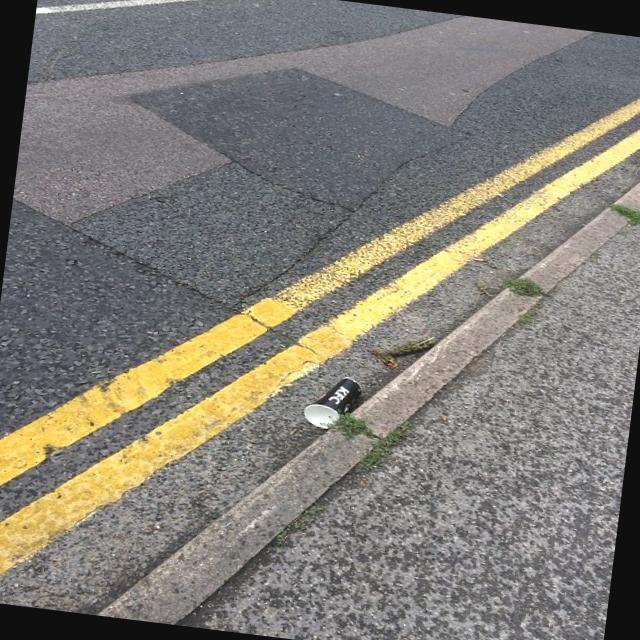Recycle: (302, 371, 361, 431)
